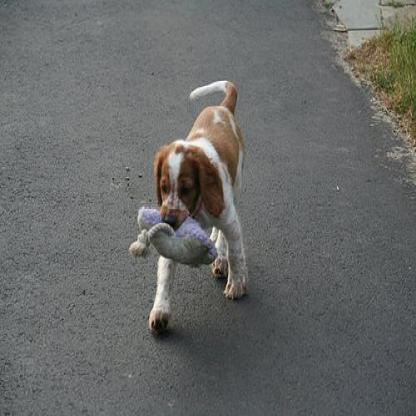Welsh_springer_spaniel: (147, 79, 244, 335)
